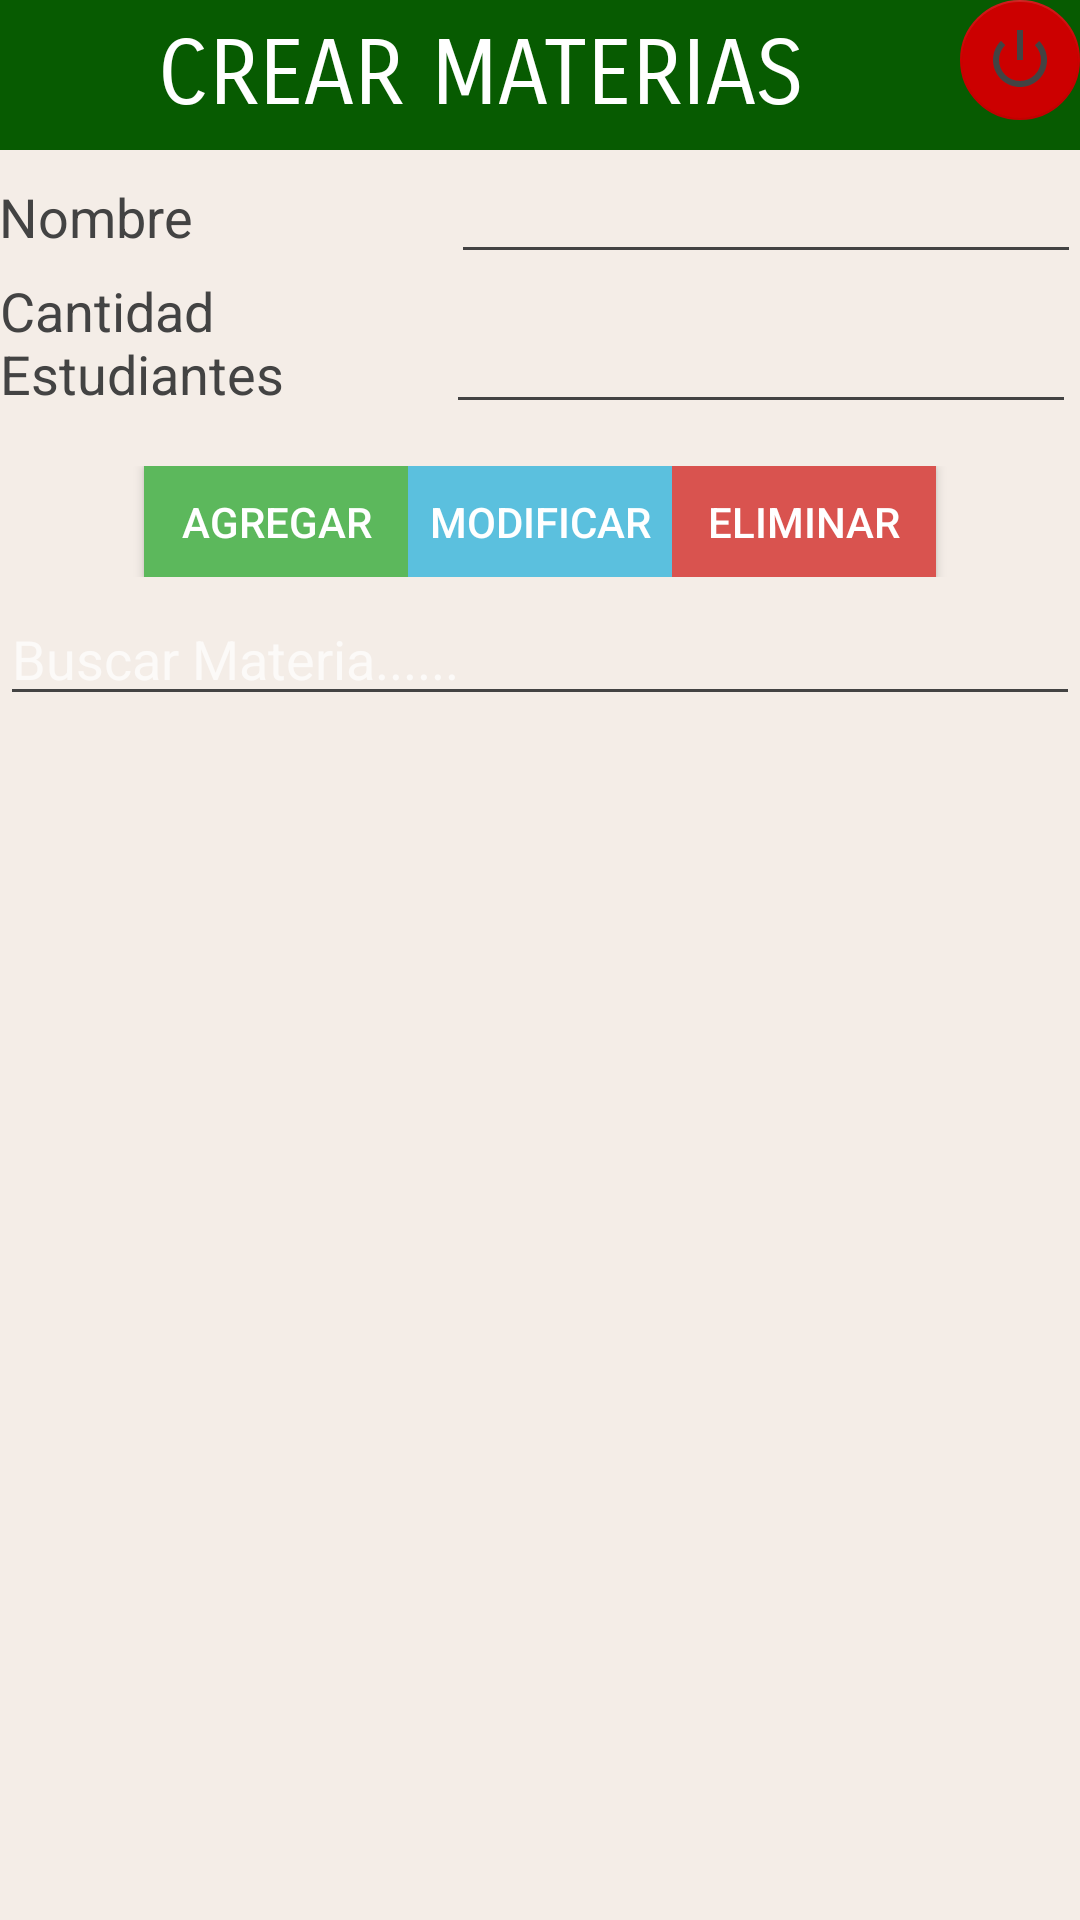

Named icons in this screenshot (1080px×1920px) and their bounding boxes, Rect(x1, y1, x2, y2):
lock power off: Rect(960, 0, 1080, 120)
